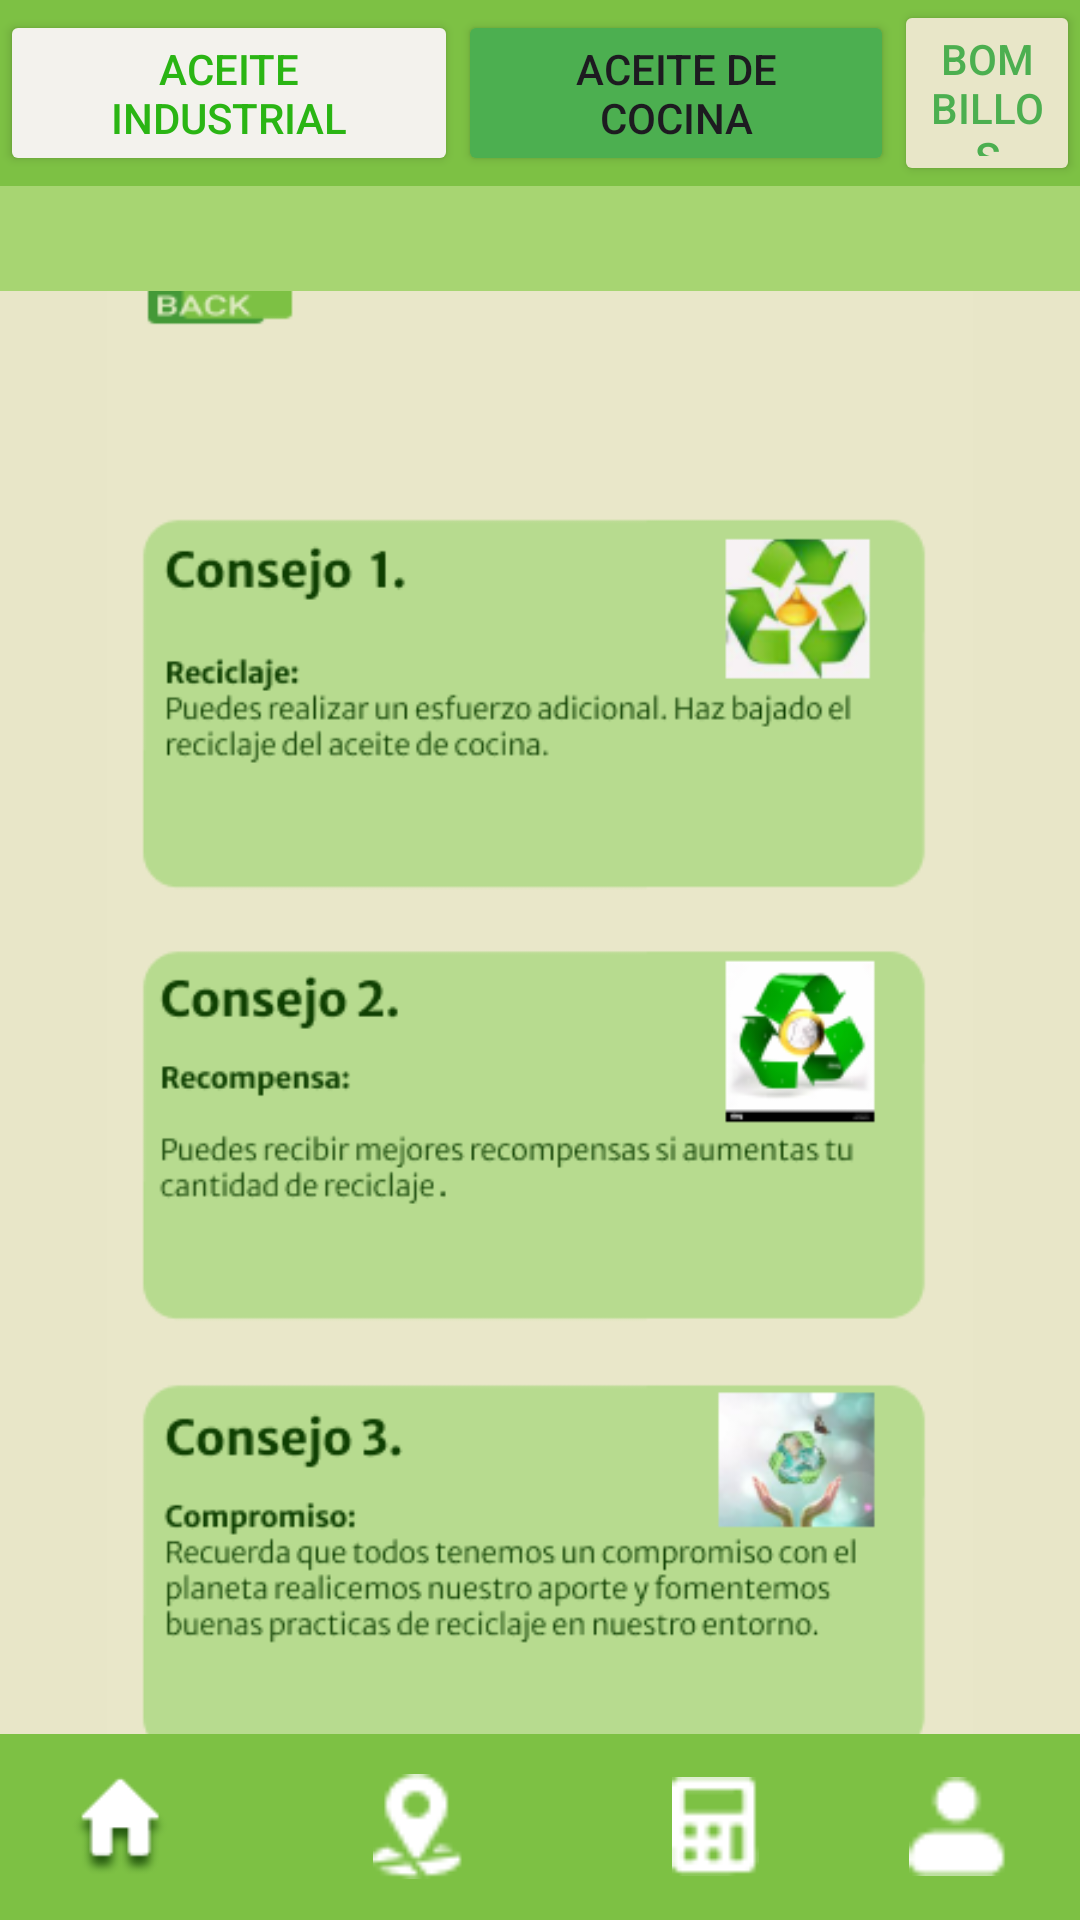

Icons on this 1080px×1920px Android screen, each with the point to tap as (x,y):
calculator: (714,1825)
perfil peq: (957,1826)
